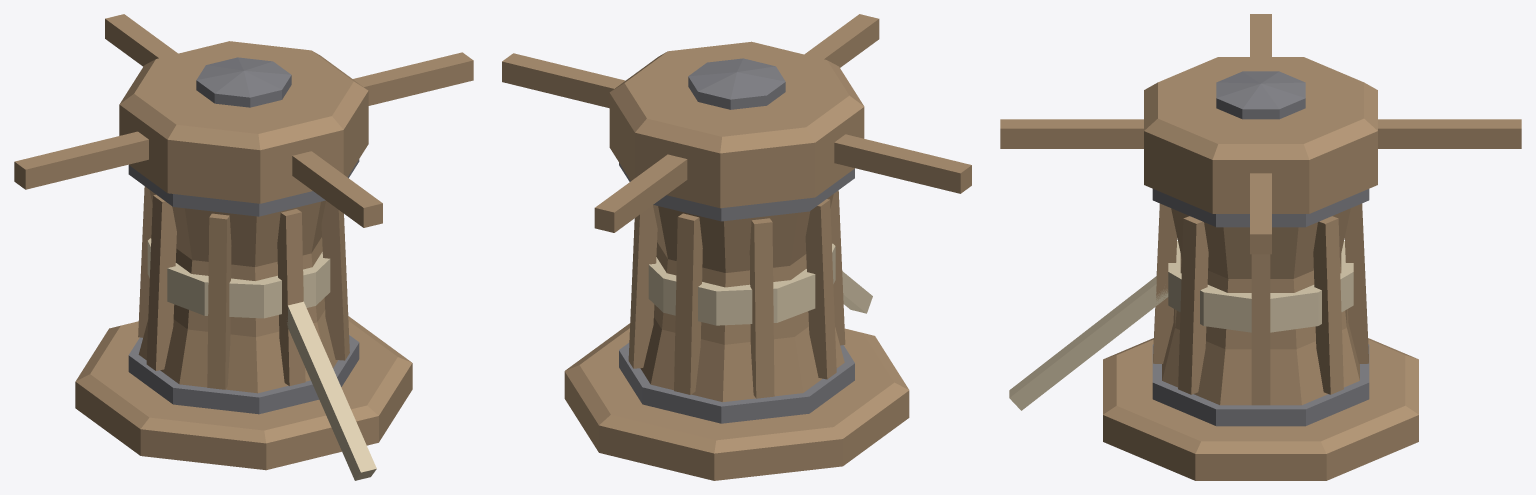
File: prop-capstan-wood.glb
3 renders of one model, left to right at view 1: azimuth 30°, elevation 25°; view 2: azimuth 150°, elevation 25°; view 3: azimuth 270°, elevation 25°, orthographic. The views are drawn at different scales.
Visible parts, largest first — view 1: prop-capstan-wood; view 2: prop-capstan-wood; view 3: prop-capstan-wood.
Boxes of the visible parts, left/top/right/bottom form: prop-capstan-wood: left=14, top=14, right=473, bottom=480; prop-capstan-wood: left=502, top=14, right=971, bottom=480; prop-capstan-wood: left=1000, top=14, right=1521, bottom=480.
Size of the model in its own units: 1.4 by 0.98 by 1.4.
